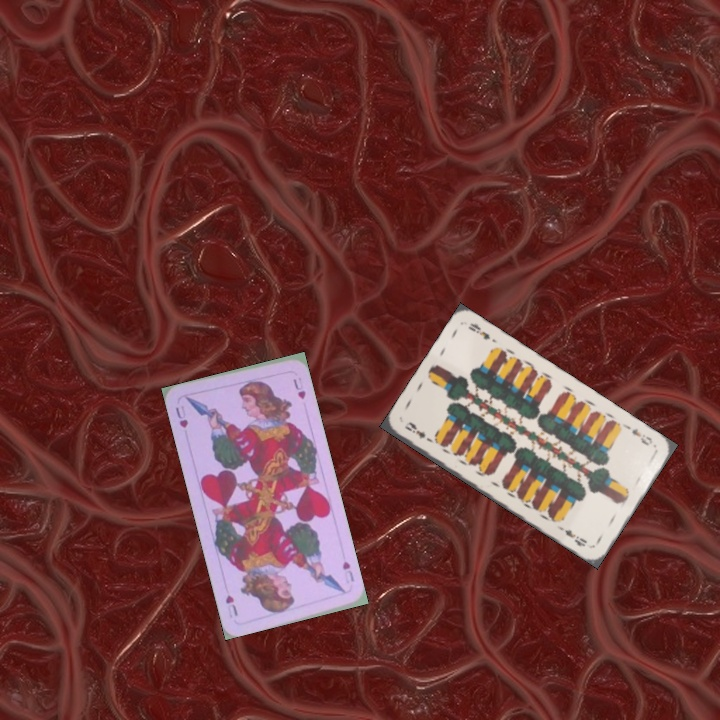E9: (401, 418, 437, 445), (628, 424, 655, 448)
HU: (171, 401, 191, 431), (338, 557, 357, 588)
